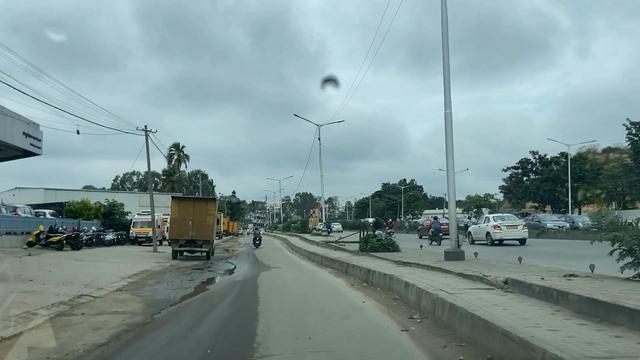HMV: (169, 196, 213, 258)
